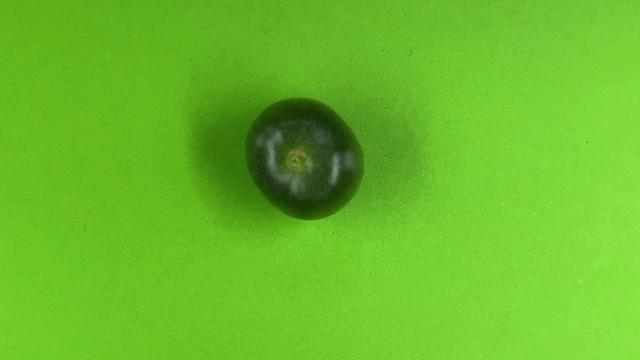Fruit Maturation: (244, 97, 366, 221)
